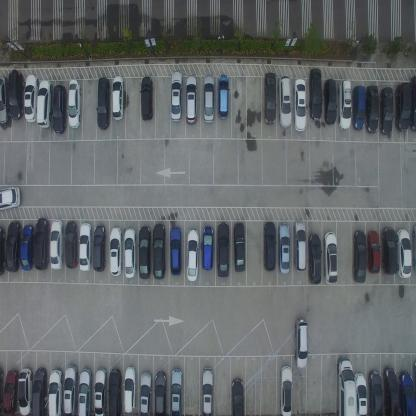car: (336, 356, 356, 415), (394, 80, 410, 134), (336, 78, 352, 132), (395, 228, 412, 278), (215, 222, 230, 278), (31, 366, 48, 415), (382, 366, 399, 415), (62, 364, 78, 416), (6, 220, 22, 272), (51, 83, 67, 135), (8, 68, 24, 120), (152, 222, 166, 281), (34, 217, 49, 272), (352, 229, 367, 284), (277, 74, 292, 129), (36, 78, 52, 129), (323, 231, 338, 284), (96, 77, 111, 130), (398, 371, 416, 415), (17, 366, 33, 415), (381, 227, 397, 276), (308, 66, 322, 121), (169, 69, 183, 124), (47, 367, 63, 415), (379, 85, 394, 136), (294, 316, 308, 370), (50, 217, 64, 271), (186, 229, 200, 282), (308, 233, 322, 286), (138, 224, 151, 280), (108, 225, 122, 277), (263, 220, 277, 272), (293, 77, 306, 133), (67, 78, 81, 130), (64, 219, 78, 270), (277, 223, 291, 274), (293, 220, 307, 271), (365, 83, 379, 134), (3, 368, 18, 415), (368, 368, 383, 415), (169, 227, 183, 277), (323, 76, 337, 126), (24, 74, 38, 124), (78, 222, 92, 271), (232, 222, 245, 274), (124, 226, 137, 278), (78, 367, 92, 415), (92, 224, 106, 272), (202, 74, 215, 125), (108, 368, 122, 415), (184, 76, 197, 126), (280, 365, 293, 415), (264, 72, 276, 126), (351, 84, 365, 130), (140, 75, 154, 121), (94, 366, 107, 415), (21, 223, 34, 272), (201, 367, 214, 415), (353, 372, 367, 416), (0, 184, 22, 212), (170, 368, 183, 415), (111, 74, 124, 121), (201, 225, 214, 271), (124, 365, 136, 413), (217, 73, 229, 121), (139, 372, 152, 416), (367, 230, 380, 274), (154, 372, 166, 416), (231, 376, 244, 416), (0, 74, 8, 125), (410, 73, 415, 134), (0, 226, 5, 276), (412, 224, 415, 272)
